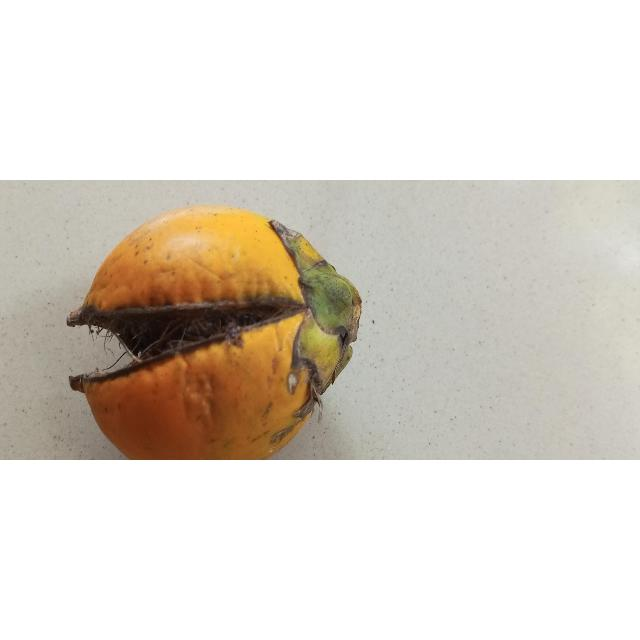damaged: (67, 205, 361, 461)
